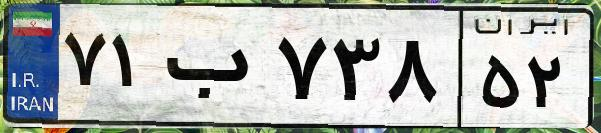1: (110, 28, 158, 98)
2: (525, 38, 570, 115)
3: (330, 28, 385, 110)
5: (475, 38, 525, 113)
7: (270, 28, 330, 110), (57, 26, 110, 100)
8: (385, 28, 445, 110)
ب: (158, 20, 270, 120)
